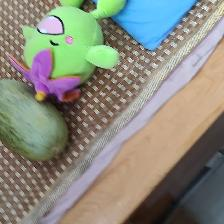gua: (4, 86, 58, 147)
